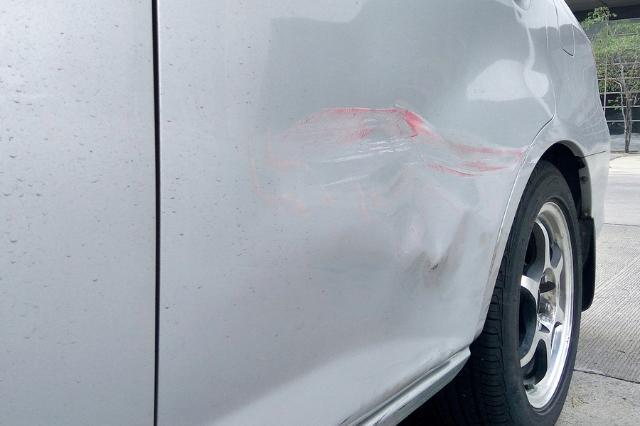Door: (218, 31, 527, 336)
